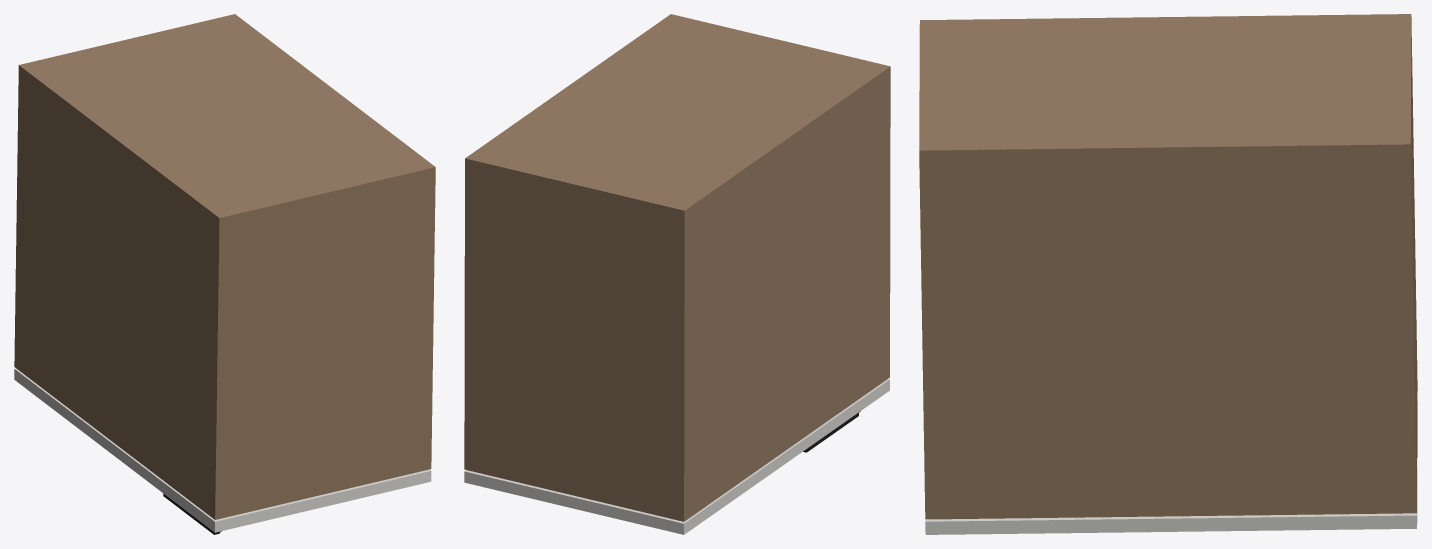
The picture shows the model from 3 angles, left to right: view 1: azimuth 30°, elevation 25°; view 2: azimuth 150°, elevation 25°; view 3: azimuth 270°, elevation 25°; orthographic projection. The views are drawn at different scales.
Visible parts, largest first — view 1: cabinet_carcass/0, front_front/1; view 2: cabinet_carcass/0, front_front/1; view 3: cabinet_carcass/0, front_front/1.
Part boxes in pixels (x1=…): cabinet_carcass/0: x1=14, y1=14, x2=435, y2=519; front_front/1: x1=14, y1=368, x2=431, y2=532; cabinet_carcass/0: x1=464, y1=14, x2=890, y2=521; front_front/1: x1=464, y1=379, x2=889, y2=534; cabinet_carcass/0: x1=919, y1=14, x2=1417, y2=519; front_front/1: x1=925, y1=391, x2=1417, y2=534.
Bounding box in the file's own units: 0.3773 × 0.5584 × 0.6105.
